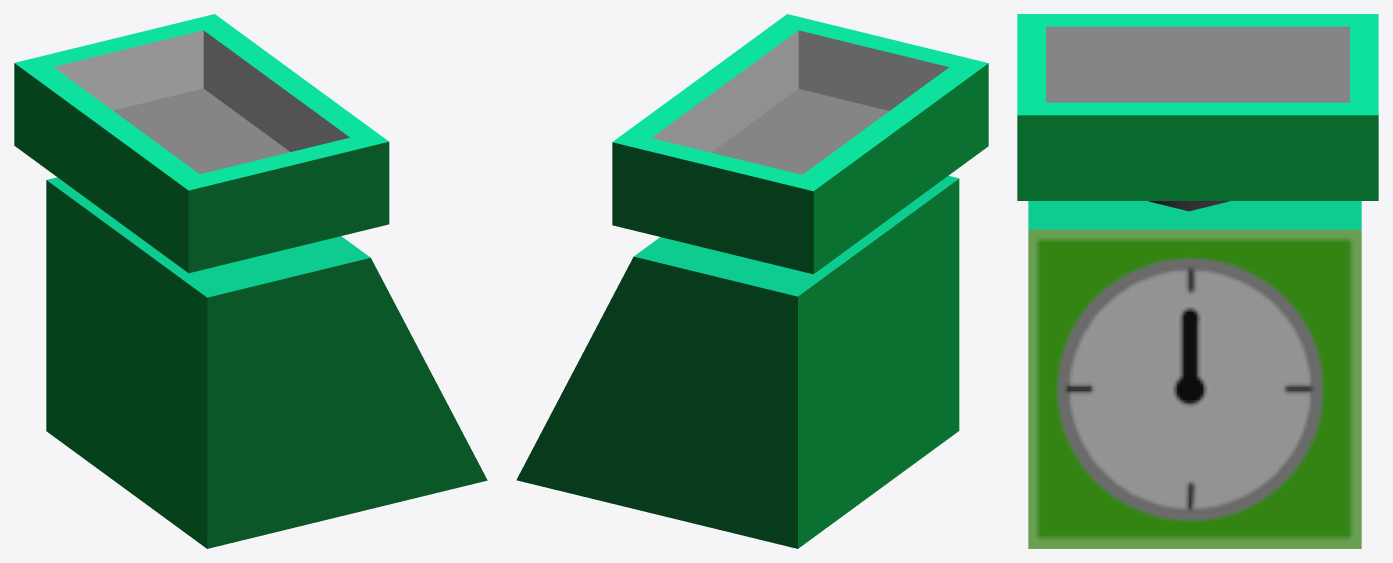
File: Kitchen Scale.fbx
The picture shows the model from 3 angles, left to right: view 1: azimuth 30°, elevation 25°; view 2: azimuth 150°, elevation 25°; view 3: azimuth 270°, elevation 25°; orthographic projection. The views are drawn at different scales.
Parts seen in each view (by area): view 1: Kitchen Scale; view 2: Kitchen Scale; view 3: Kitchen Scale.
Boxes of the visible parts, <box> form: Kitchen Scale: <box>14,14,487,548</box>; Kitchen Scale: <box>516,14,988,548</box>; Kitchen Scale: <box>1017,14,1378,548</box>.
Bounding box in the file's own units: 26.21 × 30.29 × 26.02.
